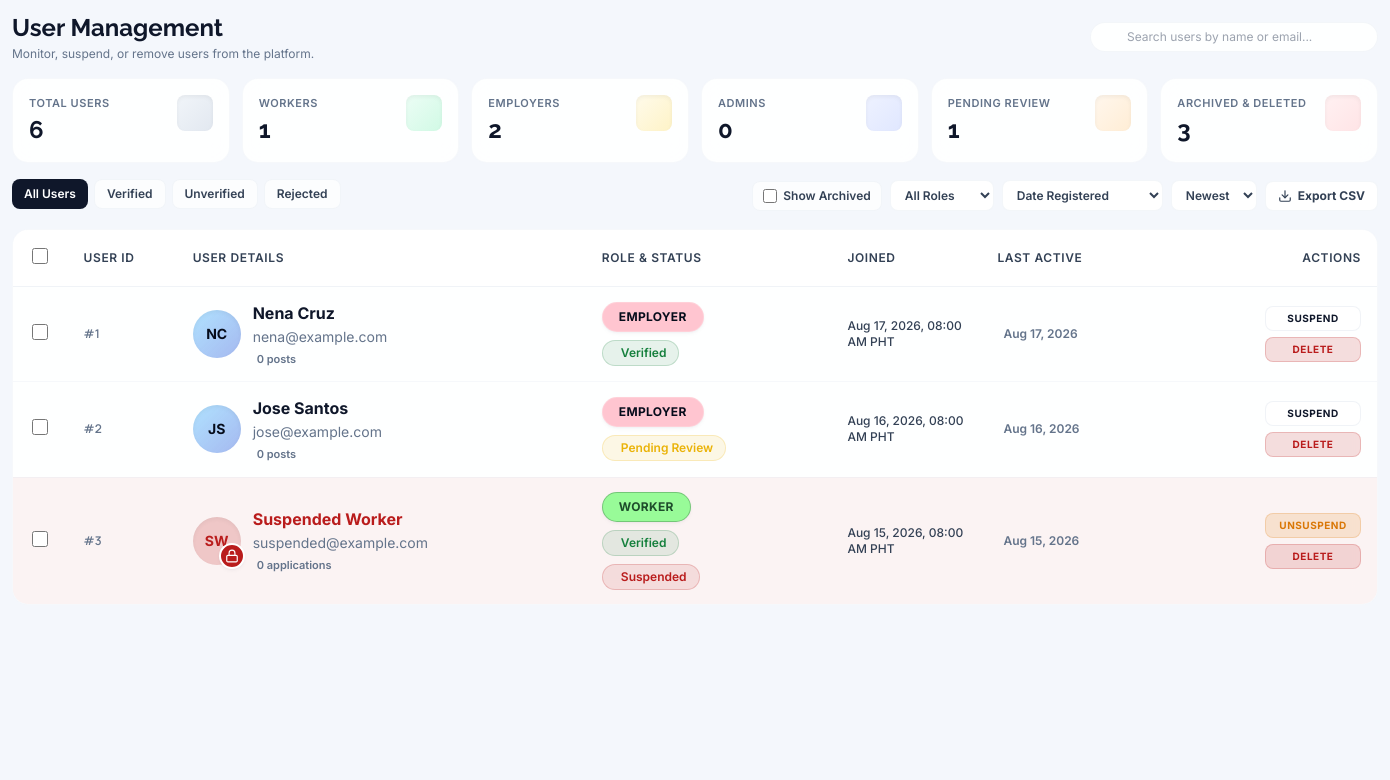
Test case: UsersPage Component › filters users list by search query and role filter
Expected: the text "Nena Cruz" is shown, x1=253 y1=300 x2=335 y2=324
Use search box
Type "Nena" into the field with placeholder "Search users by name or email...".
click(1234, 37); type("Nena")  # box x1=1090 y1=22 x2=1378 y2=52
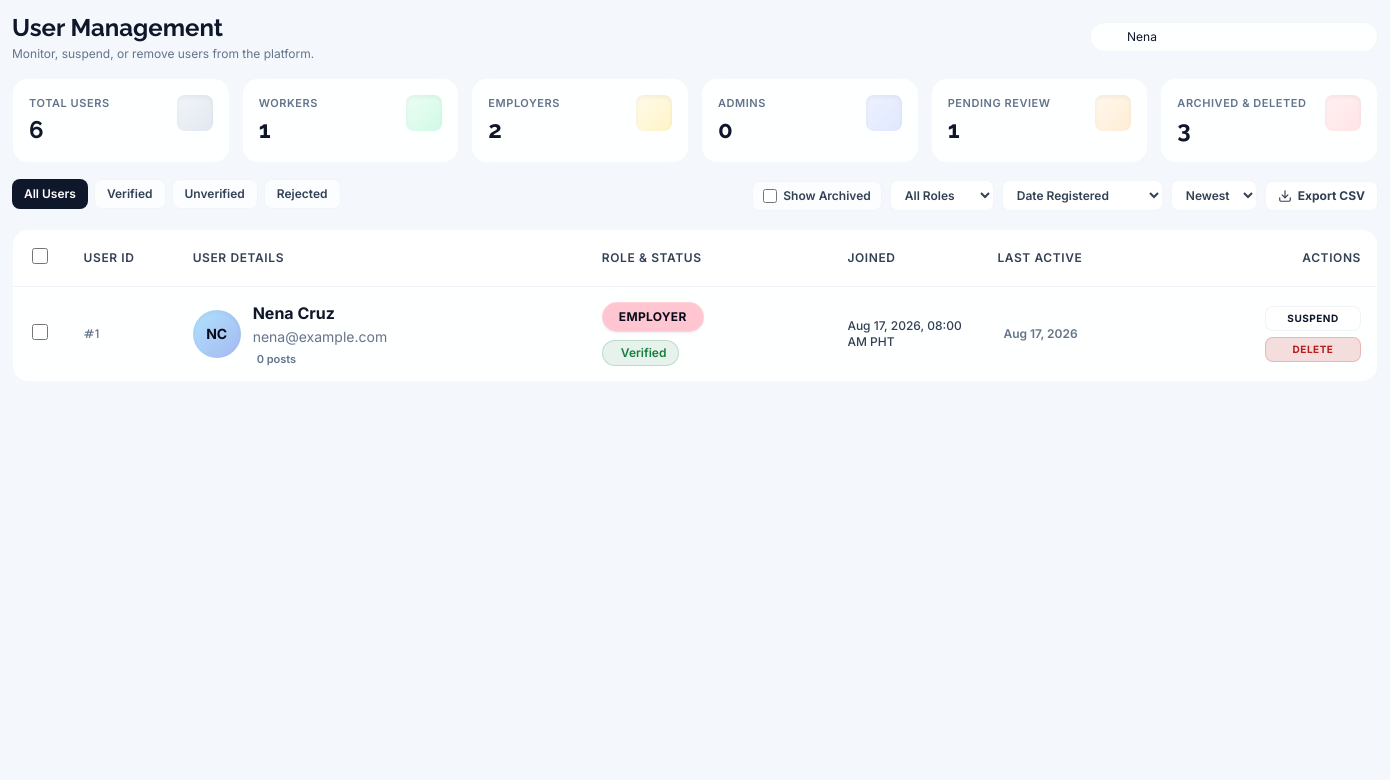
Expected: the text "Nena Cruz" is shown, x1=253 y1=300 x2=335 y2=324
Result: the text "Jose Santos" is gone
Reset search
Clear the field with placeholder "Search users by name or email..." at (1234, 37), box x1=1090 y1=22 x2=1378 y2=52
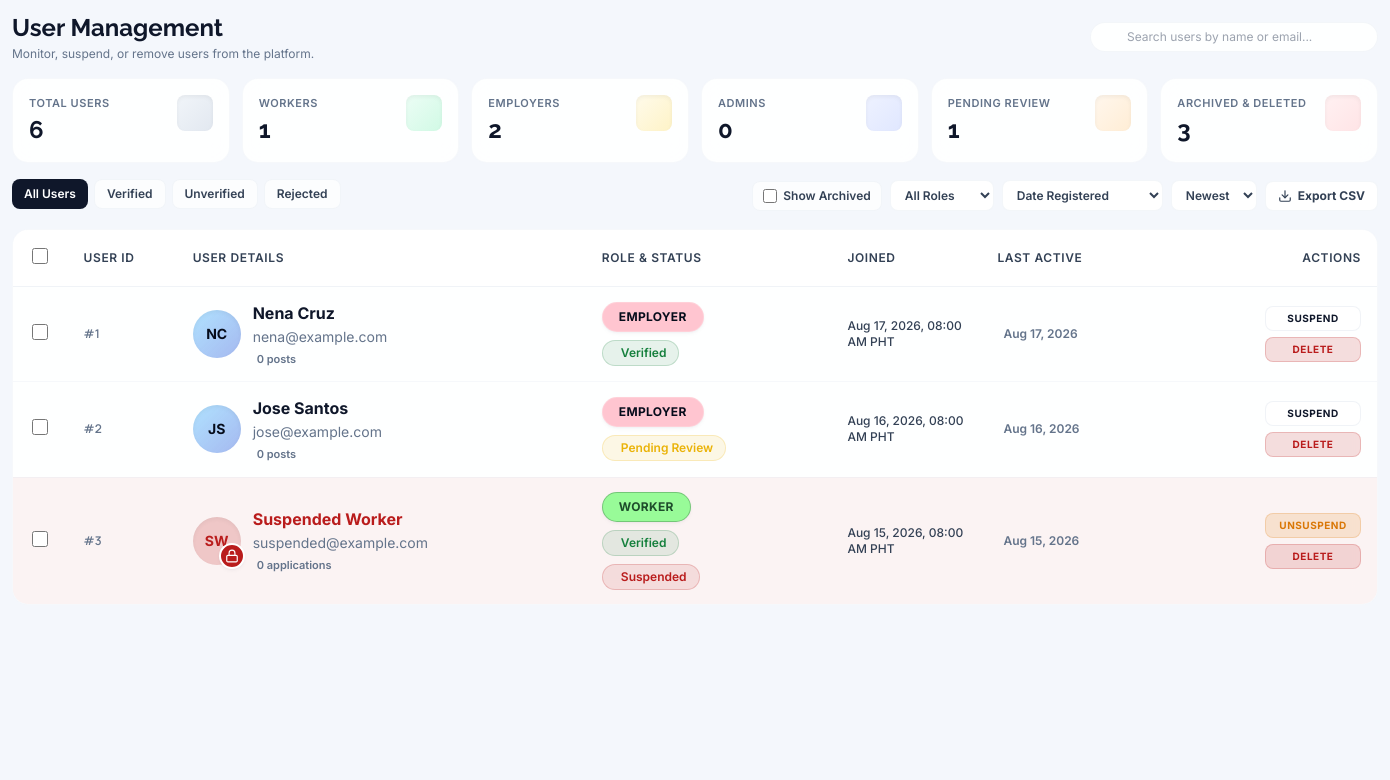
Use role select dropdown
Select "Workers" in the dropdown named "filter by user role" at (942, 196), box x1=890 y1=180 x2=994 y2=211
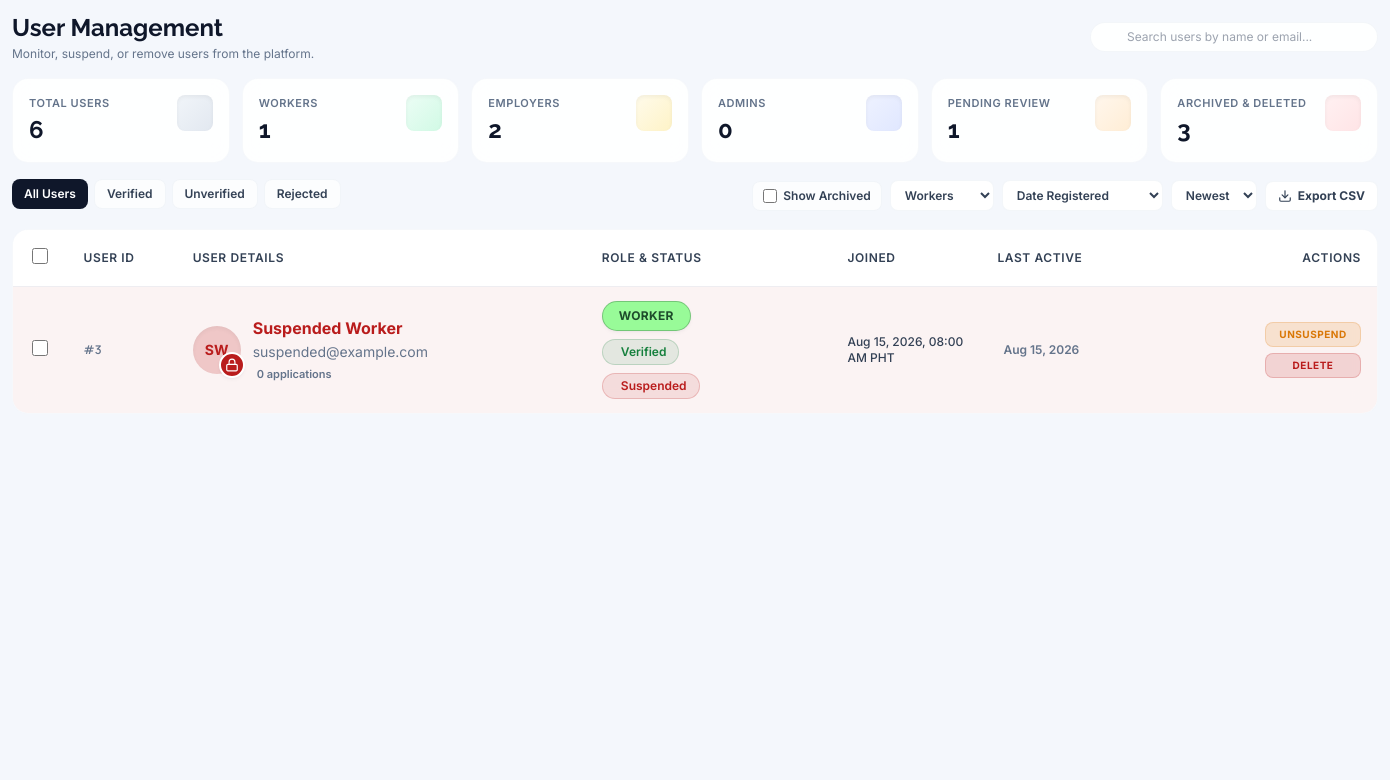
Result: the text "Suspended Worker" is shown at x1=253 y1=316 x2=402 y2=340
Result: the text "Nena Cruz" is gone
